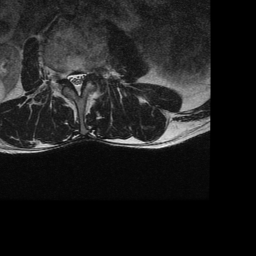CCS_normal: (73, 67, 81, 99)
LFS_severe_stenosis: (88, 64, 95, 84)
LLS_stenosis: (81, 67, 88, 87)
RFS_normal: (58, 67, 66, 87)
RLS_stenosis: (66, 67, 73, 89)
